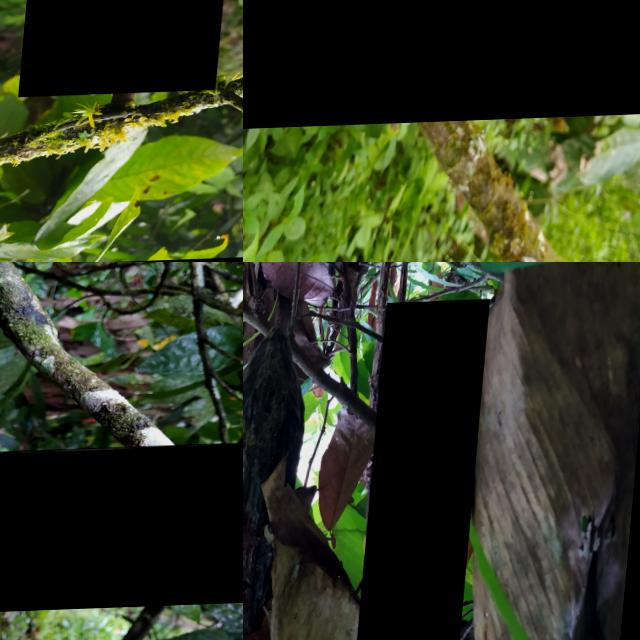Fitoftora: (365, 303, 491, 640), (243, 330, 316, 640), (27, 0, 243, 98)
Monilia: (0, 445, 243, 619)
Sana: (243, 0, 640, 129)
